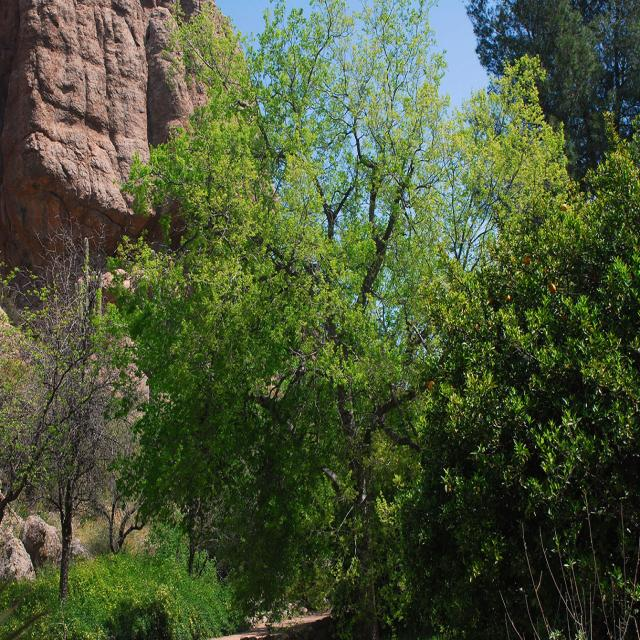Celtis reticulata: (109, 0, 470, 626)
